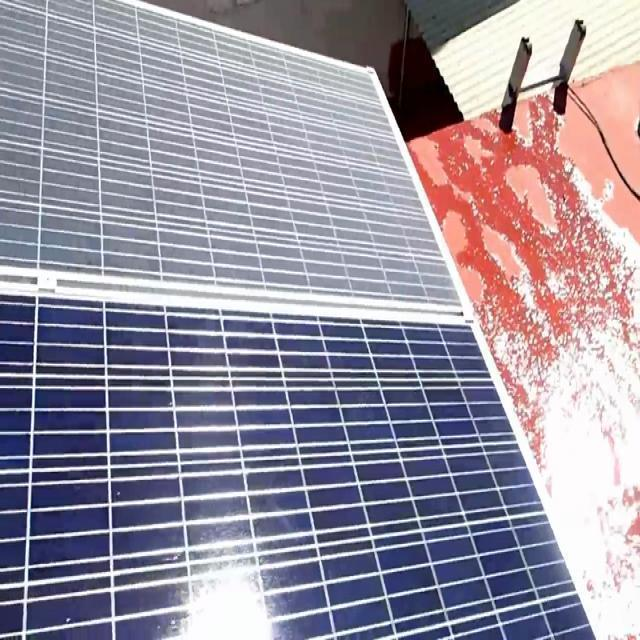Normal Solar Panel: (0, 282, 602, 639)
Surface Contaminant: (0, 0, 460, 303)
